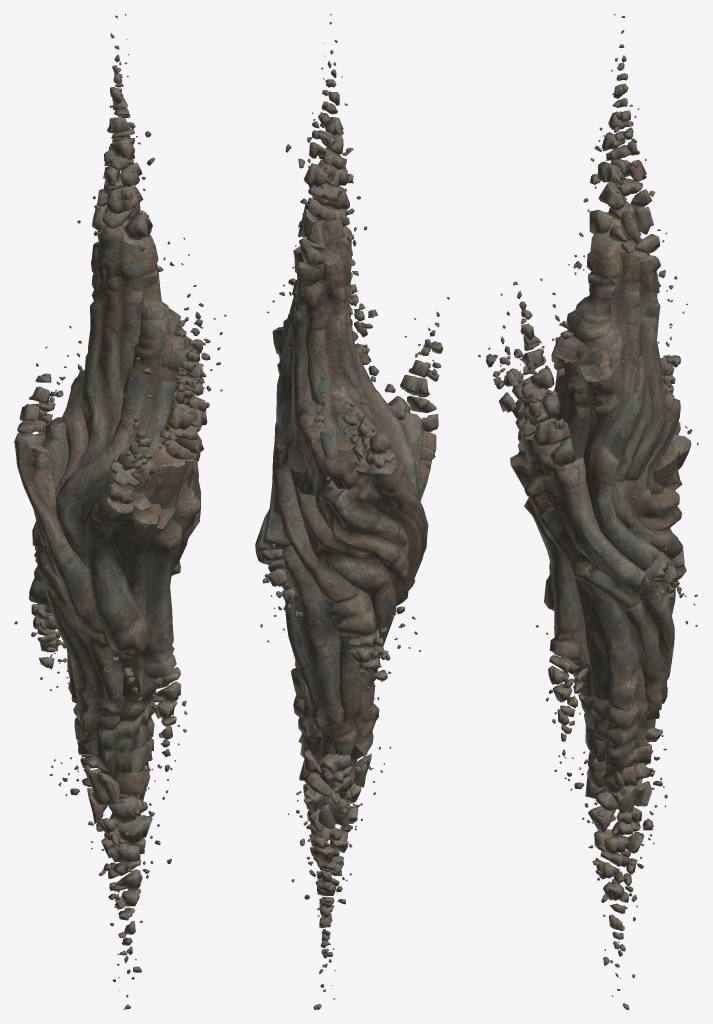
The model's file is bg_rad_kamen_rockpillar01b_sm.obj.
3 renders of one model, left to right at view 1: azimuth 30°, elevation 25°; view 2: azimuth 150°, elevation 25°; view 3: azimuth 270°, elevation 25°, orthographic.
Visible parts, largest first — view 1: bg_rad_kamen_rockpillar01b_sm_1, bg_rad_kamen_rockpillar01b_sm_0, bg_rad_kamen_rockpillar01b_sm_3; view 2: bg_rad_kamen_rockpillar01b_sm_1, bg_rad_kamen_rockpillar01b_sm_0, bg_rad_kamen_rockpillar01b_sm_3; view 3: bg_rad_kamen_rockpillar01b_sm_0, bg_rad_kamen_rockpillar01b_sm_3, bg_rad_kamen_rockpillar01b_sm_1.
Boxes of the visible parts, <box> form: bg_rad_kamen_rockpillar01b_sm_1: <box>14,440,181,799</box>; bg_rad_kamen_rockpillar01b_sm_0: <box>14,226,200,575</box>; bg_rad_kamen_rockpillar01b_sm_3: <box>14,14,226,1009</box>; bg_rad_kamen_rockpillar01b_sm_1: <box>255,430,436,788</box>; bg_rad_kamen_rockpillar01b_sm_0: <box>255,226,434,603</box>; bg_rad_kamen_rockpillar01b_sm_3: <box>256,14,449,1009</box>; bg_rad_kamen_rockpillar01b_sm_0: <box>510,217,682,609</box>; bg_rad_kamen_rockpillar01b_sm_3: <box>478,14,697,1009</box>; bg_rad_kamen_rockpillar01b_sm_1: <box>511,422,691,793</box>.
Size of the model in its own units: 2.29 by 13.66 by 2.76.
4 materials, 4 textured.
